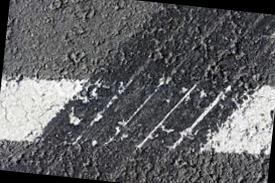faded_road_lines: (0, 53, 275, 169)
